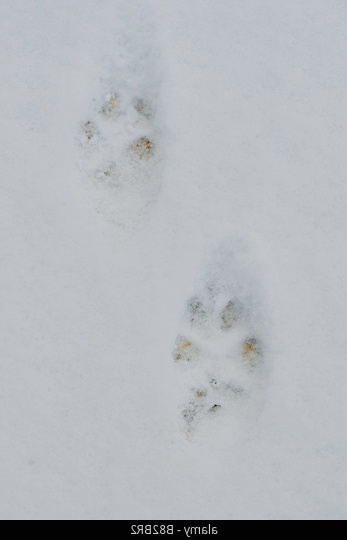fox: (150, 235, 304, 458), (54, 71, 181, 222)
